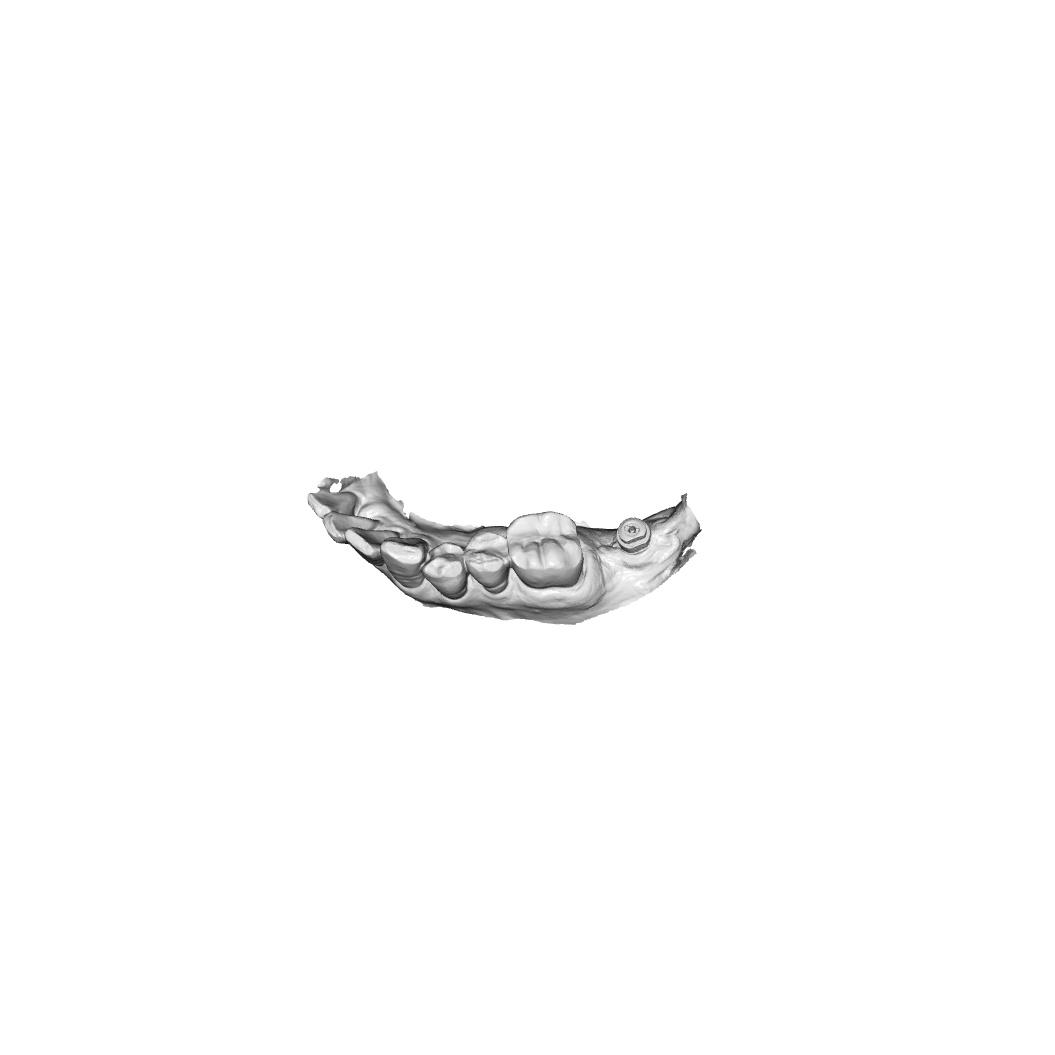canine: (380, 535, 429, 590)
implant_minus: (615, 516, 653, 556)
incisor: (344, 526, 401, 568), (322, 510, 377, 545), (305, 489, 364, 520)
molar: (505, 510, 585, 590)
premolar: (463, 529, 511, 595), (422, 541, 469, 601)
